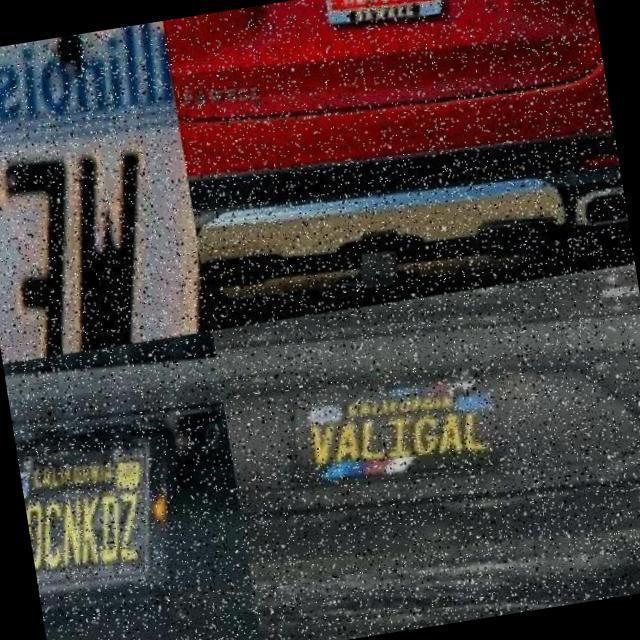License Plate: (0, 99, 212, 363), (16, 429, 176, 599), (298, 376, 516, 481), (333, 0, 449, 24)
